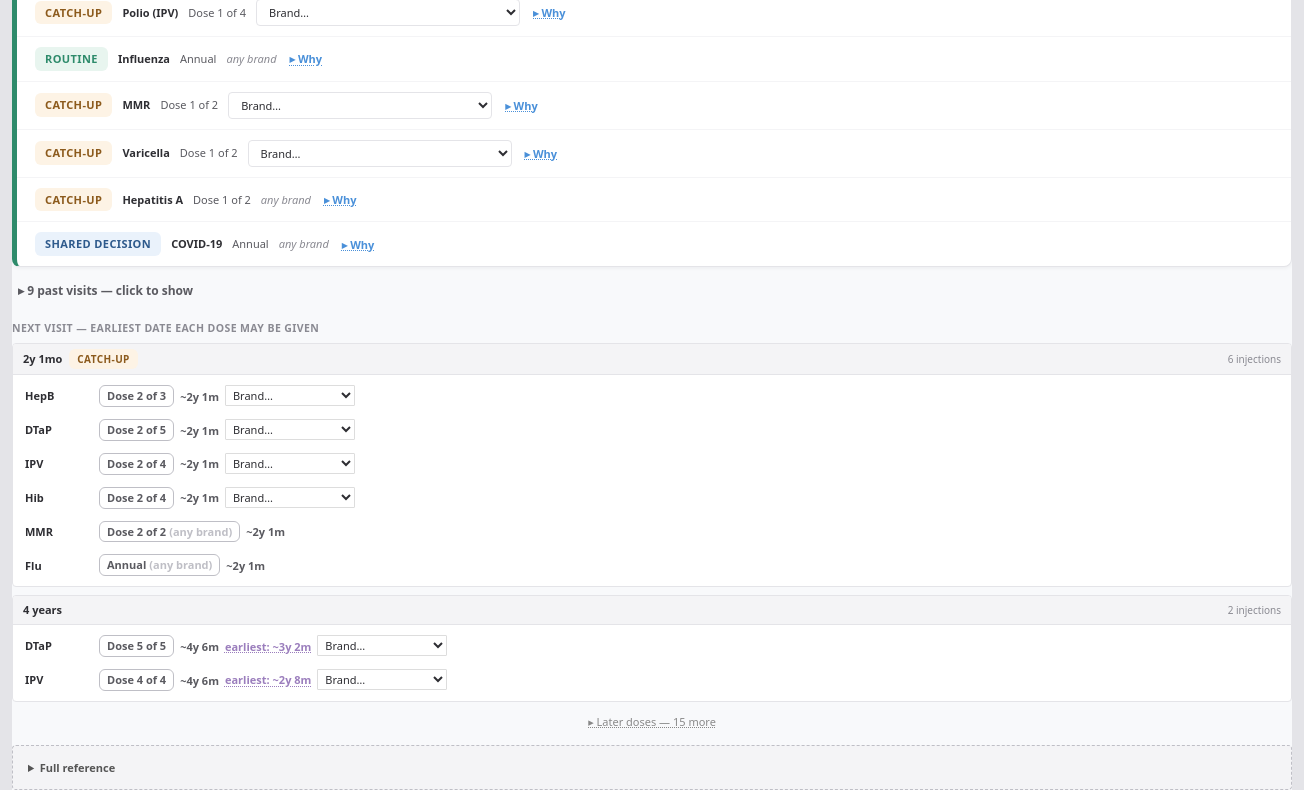
Scenario: ForecastTab — visit-card list is the default view › IPV D4 at the 4-year card shows an earliest button, and clicking it merges the dose into the 2y 8mo card
(page scrolled)
Click the button with class "fct-show-full-btn": (652, 721) [580,710,724,733]
(page scrolled)
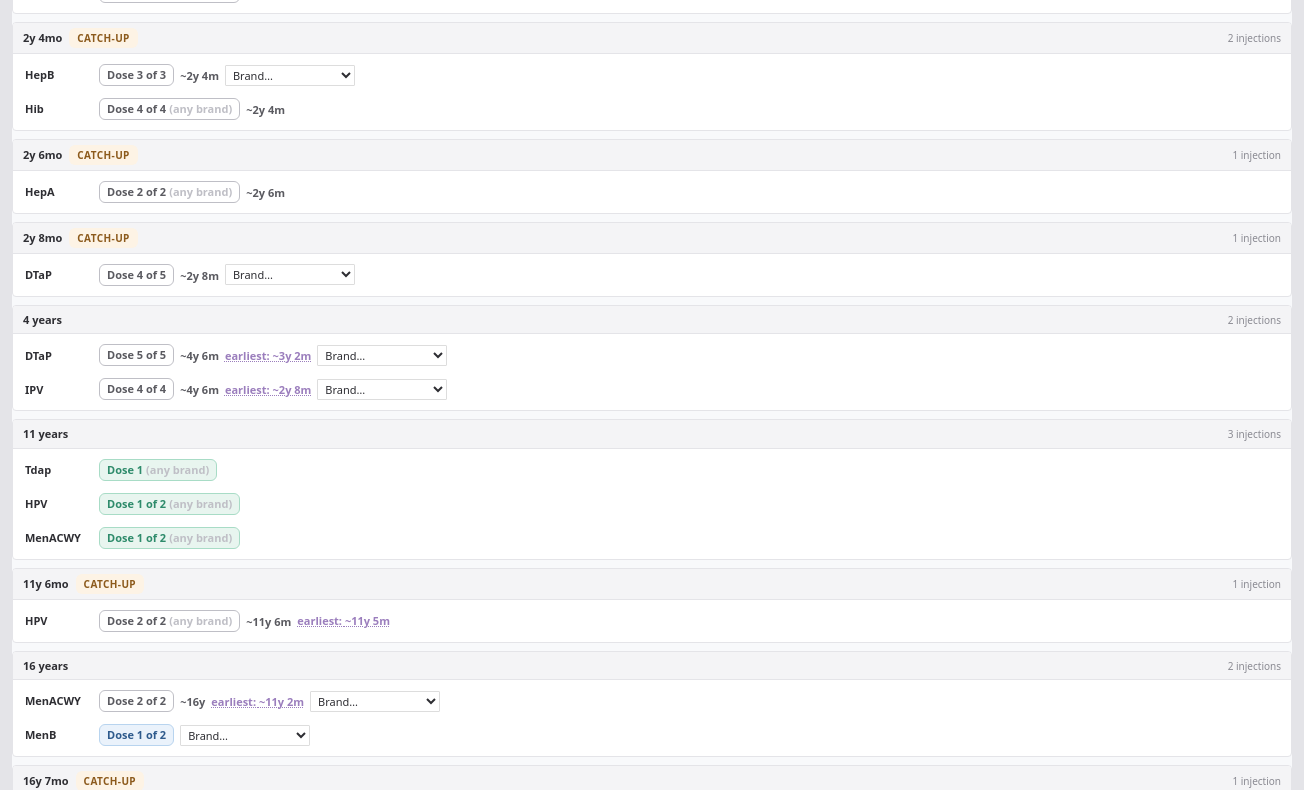
Expected: the element showing "IPV Dose 4 of 4 ~4y 6m earliest: ~2y 8m" is shown, [25,378,447,400]
Click the button with class "fc-earliest-btn" showing "earliest: ~2y 8m": (268, 390) [225,383,311,398]
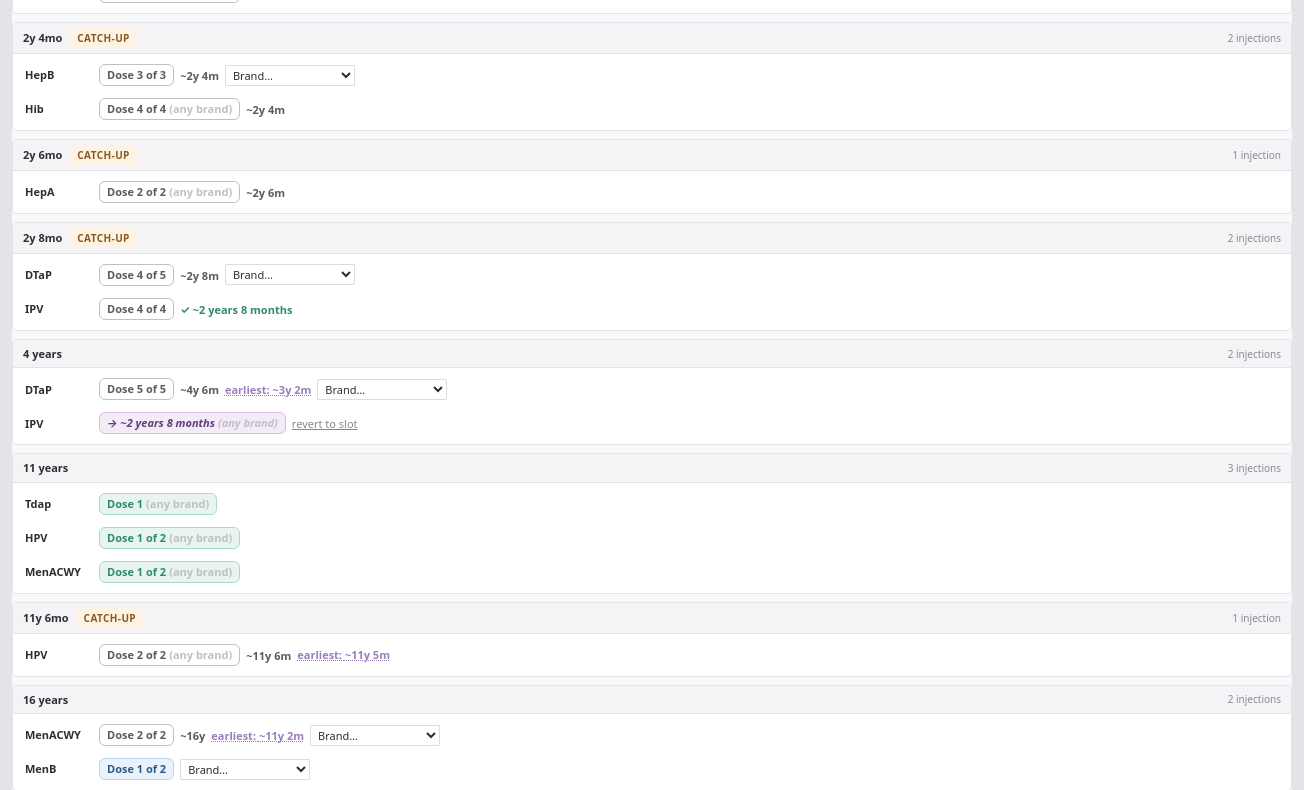
Now the element that starts with "2y 8mo" is shown, box [12,222,1292,331]
Now the element showing "DTaP Dose 4 of 5 ~2y 8m" is shown, box [25,264,355,286]
Now the element showing "IPV Dose 4 of 4 ✓ ~2 years 8 months" is shown, box [25,298,292,320]
